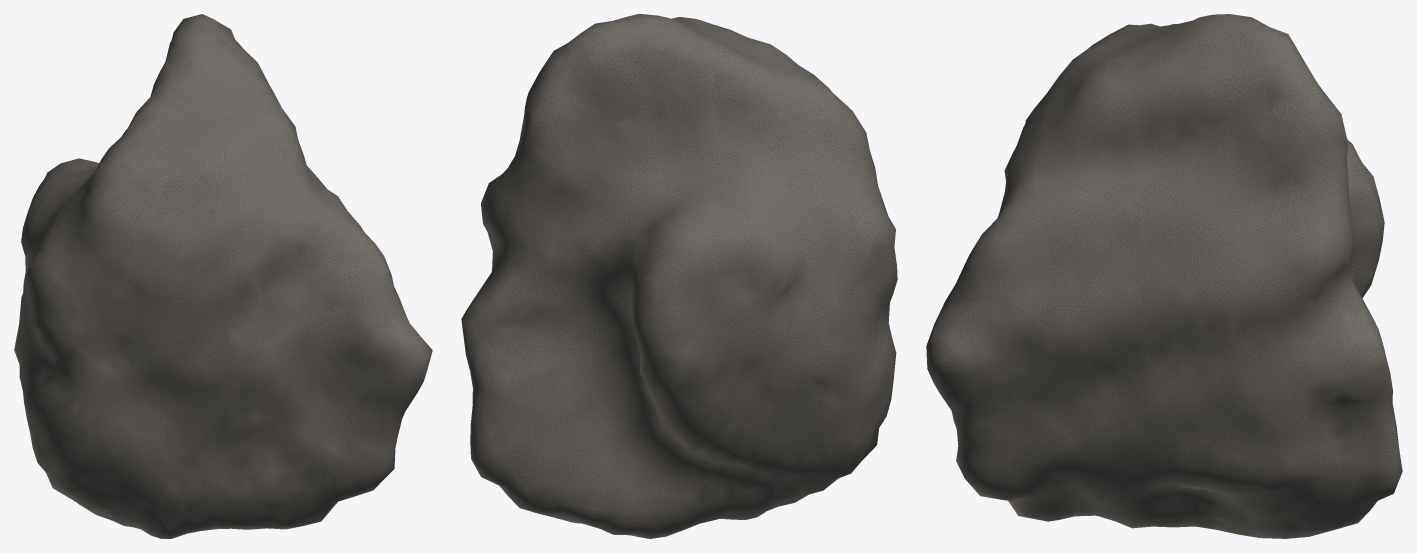
The model's file is golevka.glb.
3 views of the same model, side by side, from view 1: azimuth 30°, elevation 25°; view 2: azimuth 150°, elevation 25°; view 3: azimuth 270°, elevation 25° (orthographic). The views are drawn at different scales.
Parts seen in each view (by area): view 1: Asteroid 6489 Golevka; view 2: Asteroid 6489 Golevka; view 3: Asteroid 6489 Golevka.
Boxes of the visible parts, x1,y1,x2,y2 form: Asteroid 6489 Golevka: (14,14,432,538); Asteroid 6489 Golevka: (461,14,897,538); Asteroid 6489 Golevka: (926,14,1402,538).
Bounding box in the file's own units: 445 × 624 × 521.
Materials: 1 (1 with a texture image).
